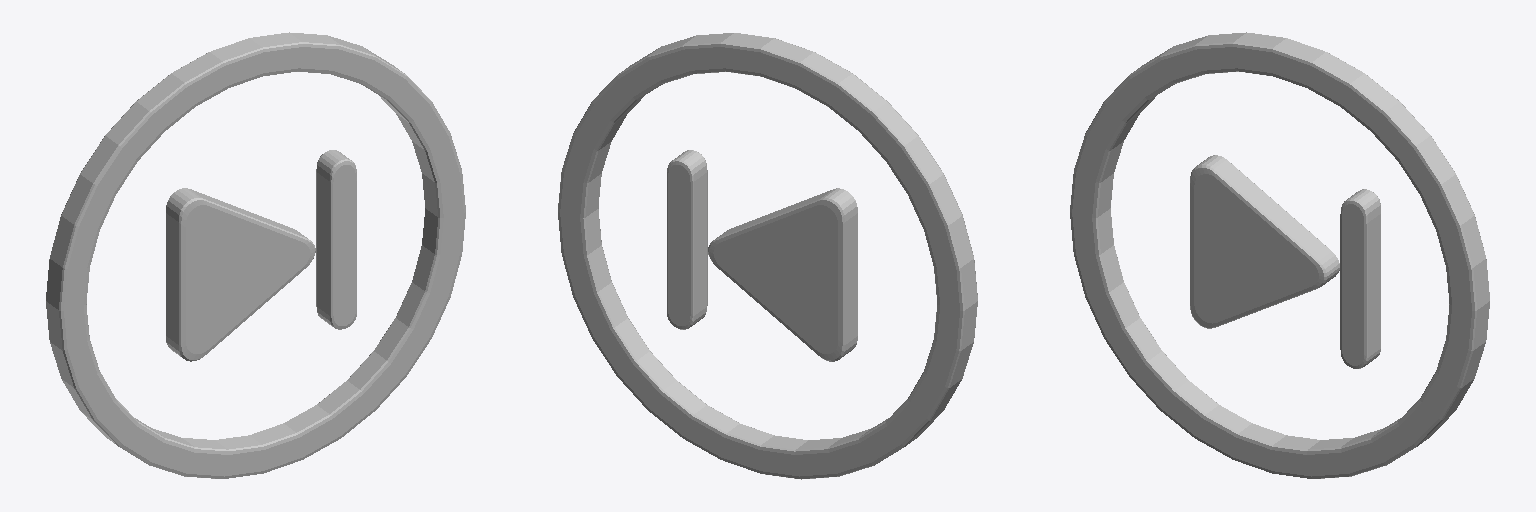
File: s-rev-fwd-centred.obj
The picture shows the model from 3 angles: view 1: azimuth 30°, elevation 25°; view 2: azimuth 150°, elevation 25°; view 3: azimuth 330°, elevation 25°; orthographic projection.
Parts seen in each view (by area): view 1: Circle; view 2: Circle; view 3: Circle.
Part boxes in pixels (x1,y1,x2,y2): Circle: (46, 32, 465, 478); Circle: (558, 33, 977, 479); Circle: (1070, 32, 1489, 478).
Bounding box in the file's own units: 1.04 × 1.04 × 0.0689.